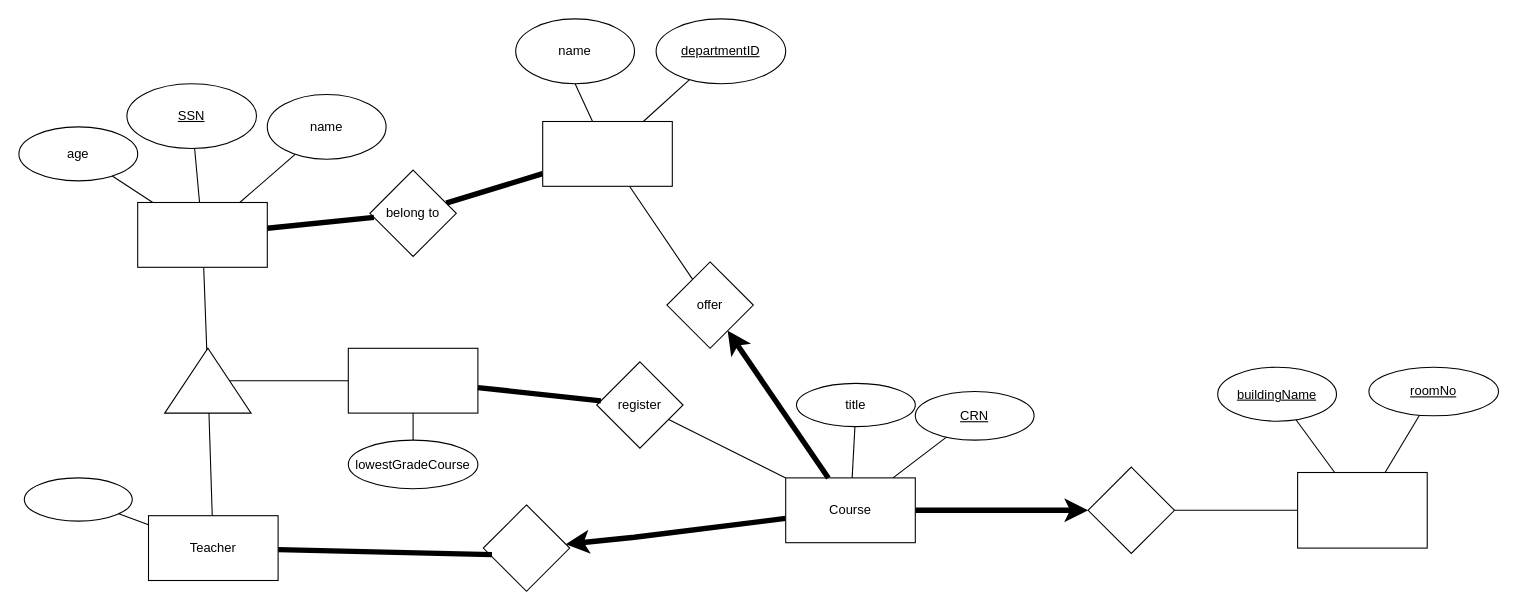
The diagram is 1517 pixels wide and 610 high, and some of its shapes have lost their labels. The shapes that lost their labels are listed below. From the top down, each one's box as (x1, y1, x2, y2) in pixels, then its label:
(542, 120, 672, 186): Department
(137, 201, 267, 267): Person
(164, 347, 251, 413): ISA
(347, 347, 478, 413): Student
(23, 477, 132, 521): specialty
(1087, 466, 1174, 554): use
(1297, 471, 1427, 548): Classroom
(482, 504, 570, 591): teach
